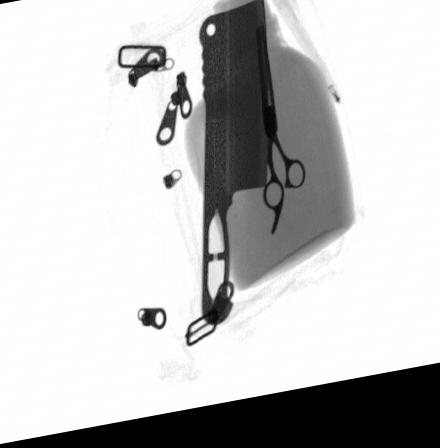Knife: (199, 5, 268, 334)
Scissors: (255, 34, 307, 246)
